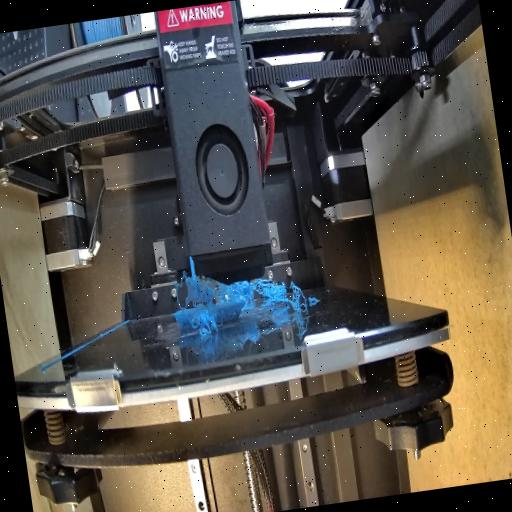spaghetti: (222, 280, 290, 312), (188, 297, 222, 338), (180, 273, 220, 305), (291, 282, 310, 315)
